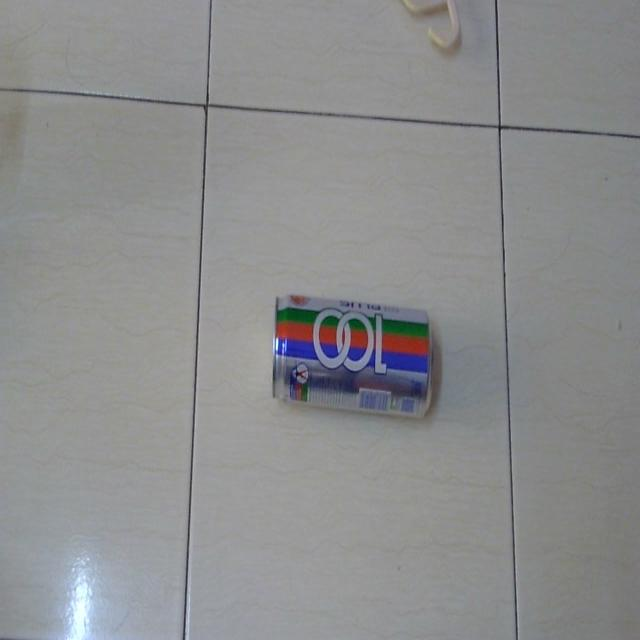metal_laydown_0rotation: (269, 282, 437, 431)
